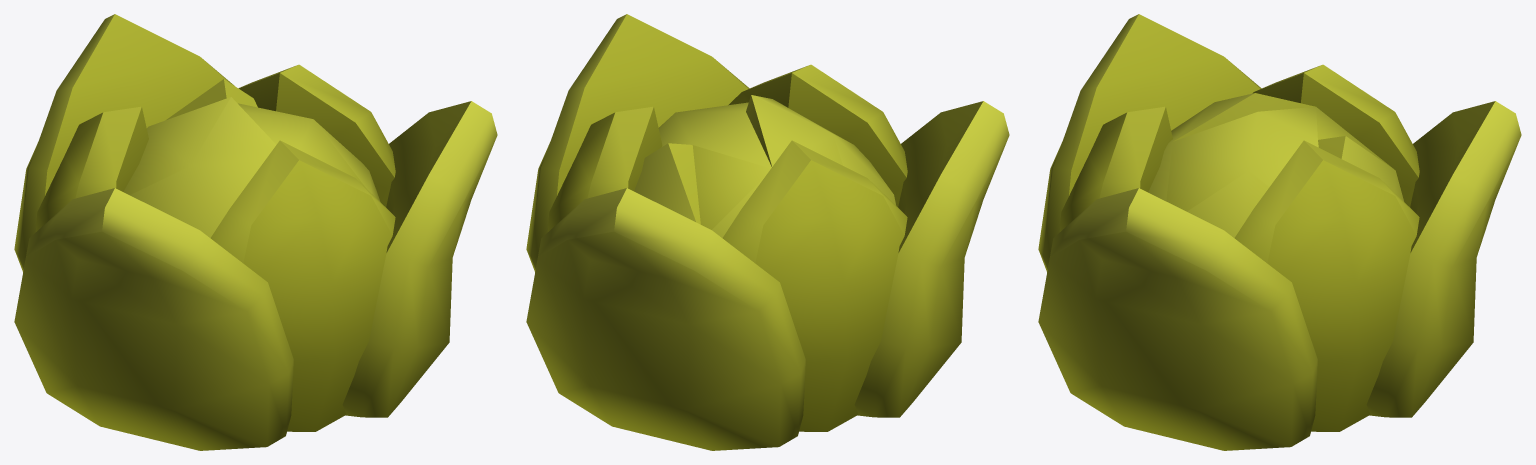
The model's file is re-food_ingredient_lettuce.glb.
The picture shows the model from 3 angles, left to right: view 1: azimuth 30°, elevation 25°; view 2: azimuth 150°, elevation 25°; view 3: azimuth 270°, elevation 25°; orthographic projection.
Visible parts, largest first — view 1: food_ingredient_lettuce; view 2: food_ingredient_lettuce; view 3: food_ingredient_lettuce.
Part boxes in pixels (<box>): food_ingredient_lettuce: <box>14,14,497,450</box>; food_ingredient_lettuce: <box>526,14,1009,450</box>; food_ingredient_lettuce: <box>1038,14,1521,450</box>.
Bounding box in the file's own units: 1.1 × 0.8205 × 1.13.
1 material, 1 textured.
